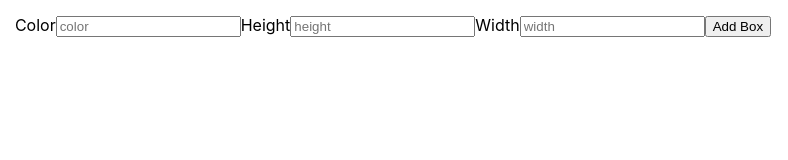
Test: should add a box
Expected: the text "Delete Box" is not shown
Type "green" into the field labelled "Color" at (148, 26), box top-left (56, 16), bottom-right (241, 37)
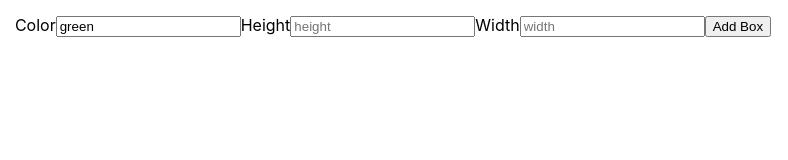
Type "10" into the field labelled "Height" at (383, 26), box top-left (290, 16), bottom-right (475, 37)
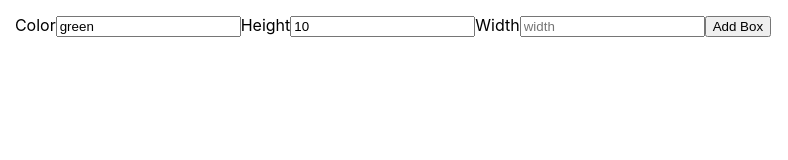
Type "20" into the field labelled "Width" at (612, 26), box top-left (520, 16), bottom-right (705, 37)
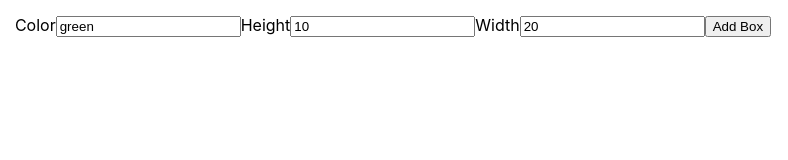
Click the button "Add Box" at (738, 26), box top-left (705, 16), bottom-right (771, 37)
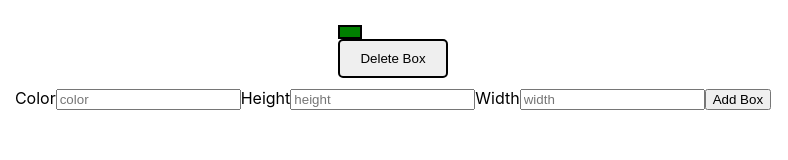
Expected: the number of fields is 3, top-left (56, 89), bottom-right (241, 110); top-left (290, 89), bottom-right (475, 110); top-left (520, 89), bottom-right (705, 110)
Expected: the button "Delete Box" is shown, top-left (338, 39), bottom-right (448, 78)
